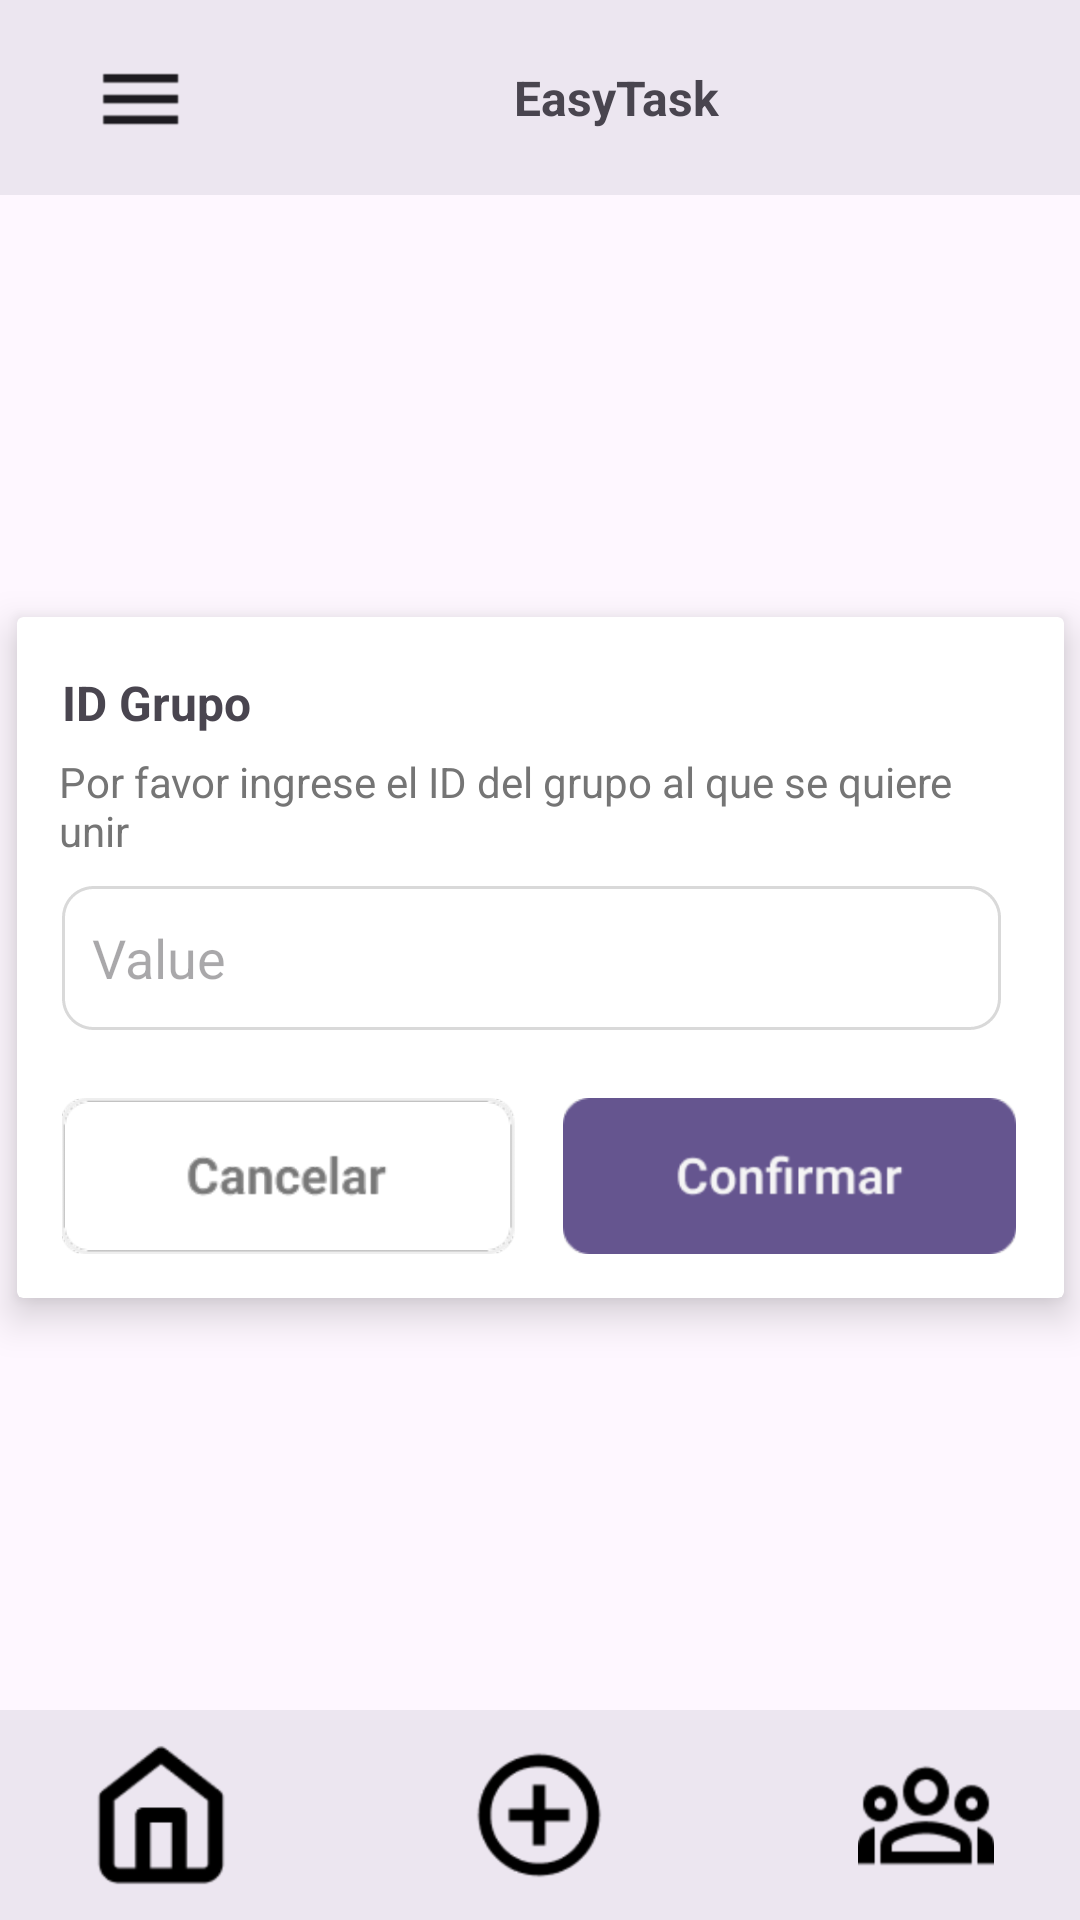

Icon click points for this 1080 × 1920 phone screenshot, format (x=x, y=y):
add: (x=539, y=1815)
groups: (x=926, y=1815)
home: (x=161, y=1815)
menu: (x=140, y=99)
